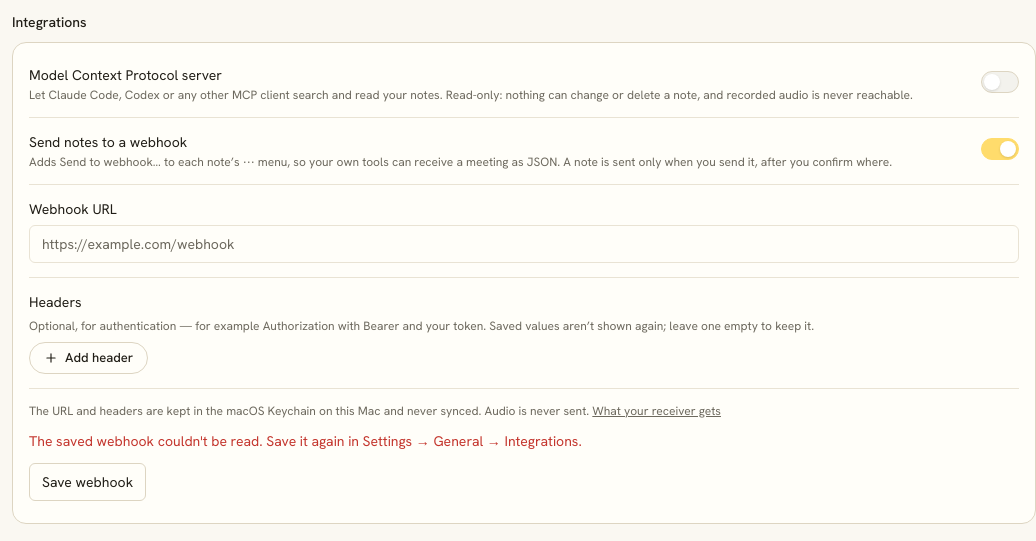
Test: the webhook endpoint › still offers a fresh save when the saved endpoint can't be read
The image size is (1036, 541).
Later steps or results of the test are not shown.
Expected: the message shows "couldn't be read", [29,432,582,450]
Type "https://hooks.example.com/new" into the field named "Webhook URL" at (524, 244), box [29,225,1019,263]
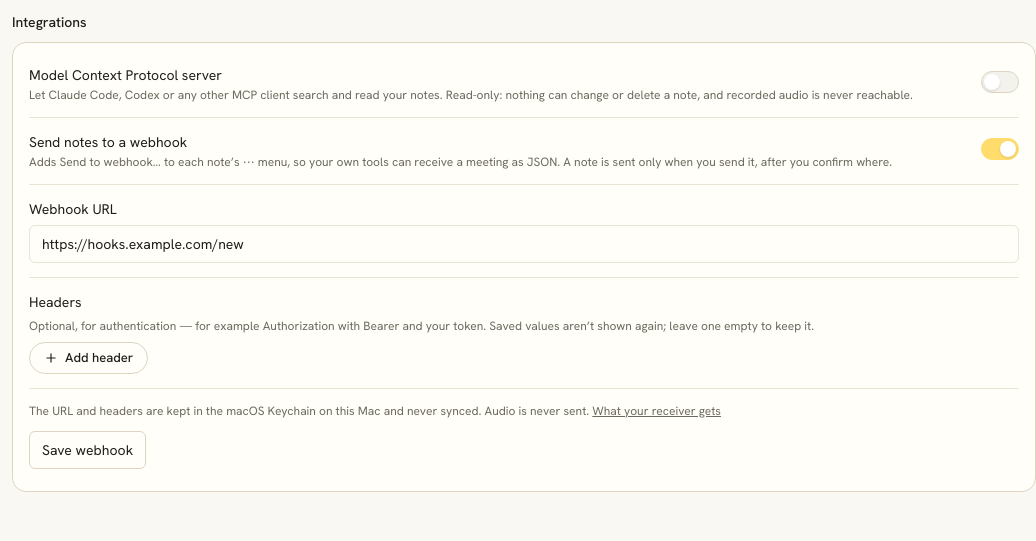
Now the message is gone
